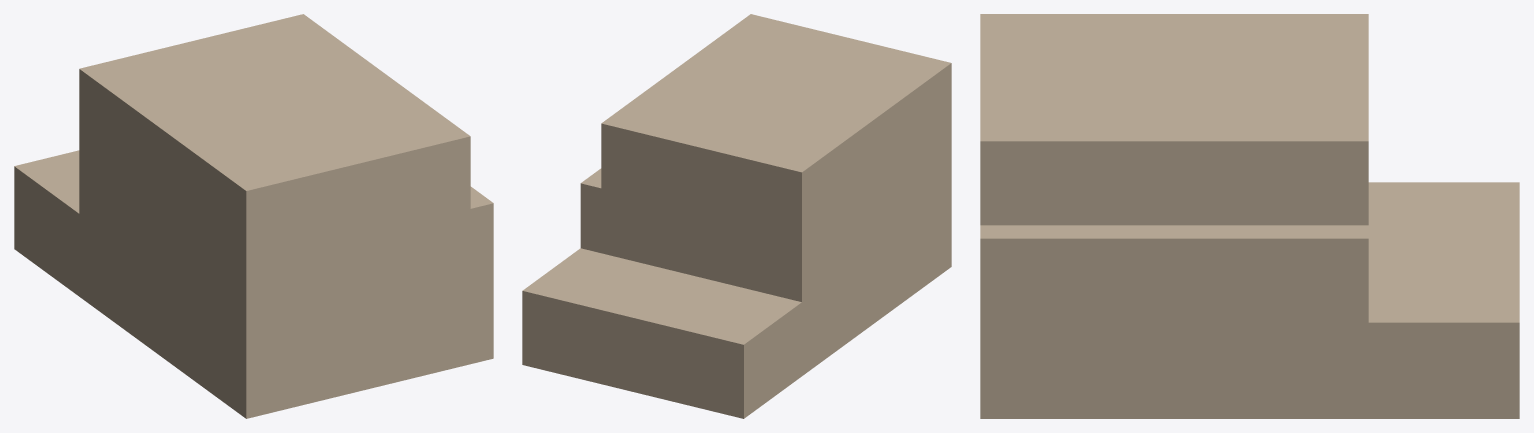
The model's file is massing.glb.
The picture shows the model from 3 angles, left to right: view 1: azimuth 30°, elevation 25°; view 2: azimuth 150°, elevation 25°; view 3: azimuth 270°, elevation 25°; orthographic projection. The views are drawn at different scales.
Parts seen in each view (by area): view 1: building/exterior; view 2: building/exterior; view 3: building/exterior.
Boxes of the visible parts, box(x1,y1,x2,y2) form: building/exterior: box(14, 14, 493, 418); building/exterior: box(522, 14, 951, 418); building/exterior: box(980, 14, 1519, 418).
Bounding box in the file's own units: 10 × 8.8 × 16.25.
